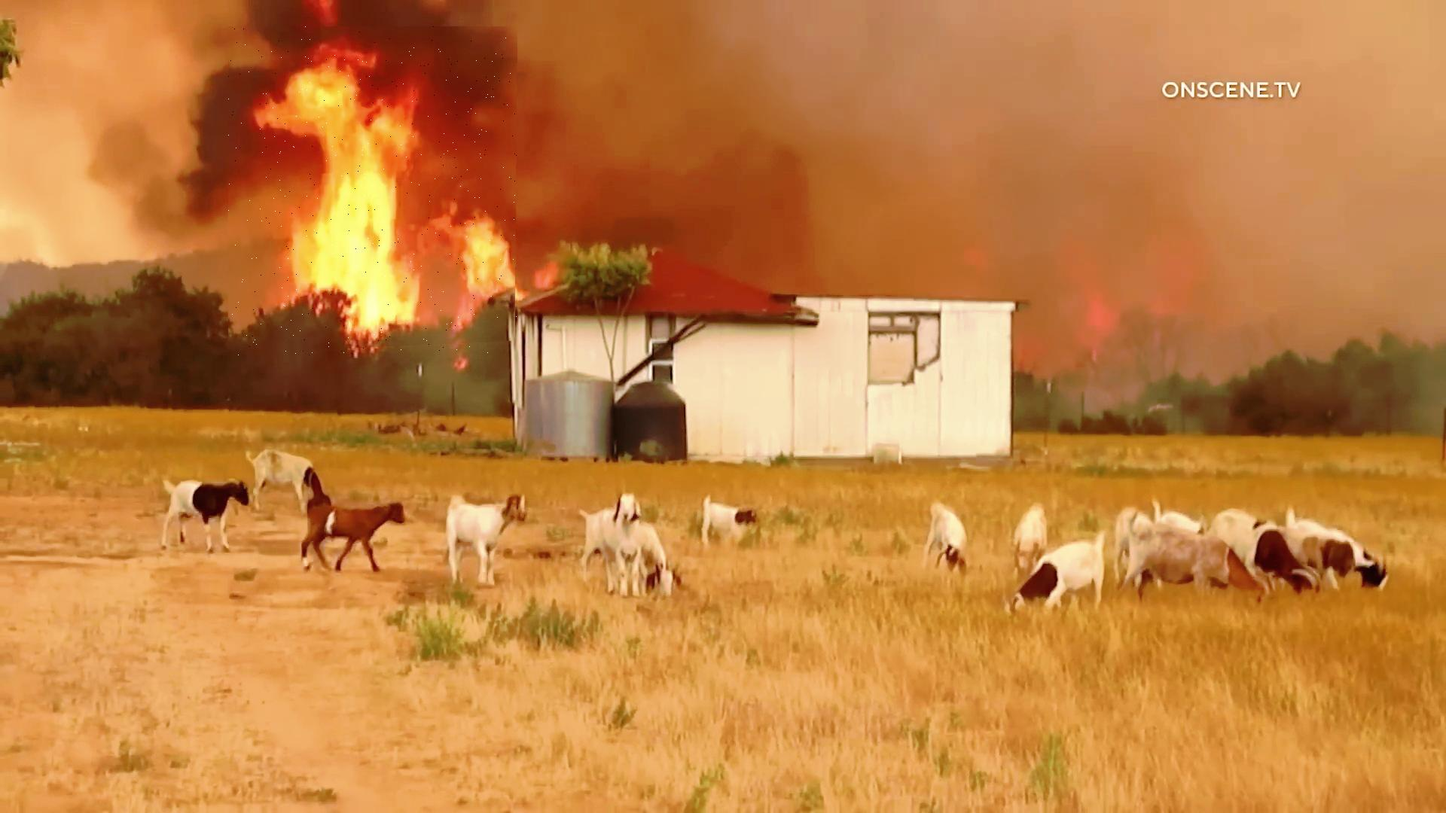fire: (228, 27, 517, 356)
